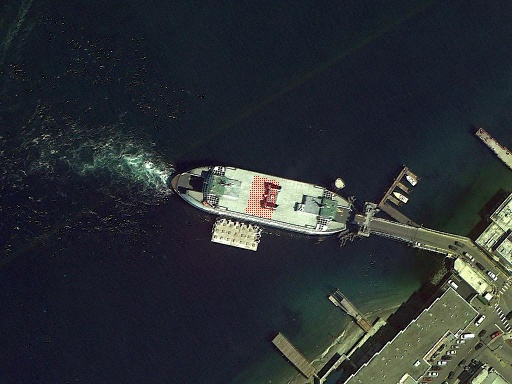ship: (164, 154, 364, 244)
